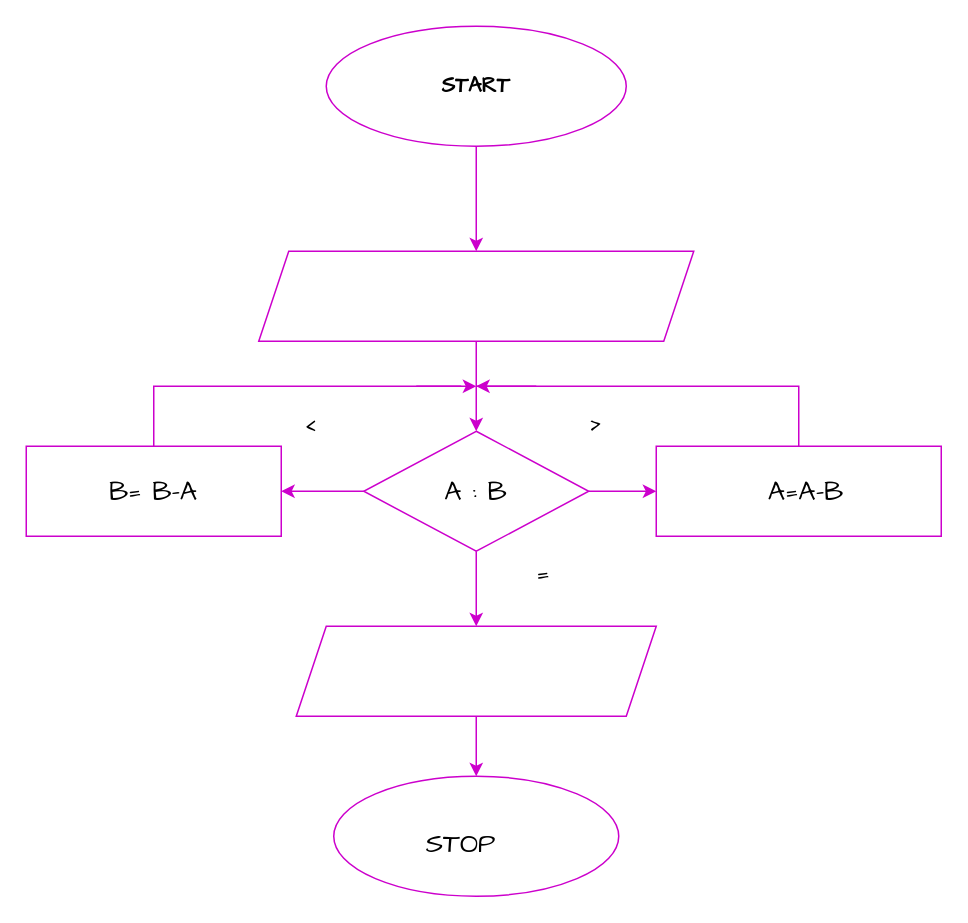
Some shapes in this 968 by 923 pixel diagram are drawn without their labels. Each missing label, with the centre of its shape:
"Output A" belongs at (475,670).
"Reaad A , B" belongs at (475,295).
